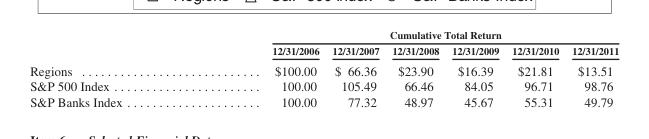table: (29, 28, 618, 108)
table column: (29, 28, 196, 108), (196, 28, 325, 108), (384, 28, 444, 108), (444, 28, 504, 108), (504, 28, 564, 108), (325, 28, 384, 108), (564, 28, 618, 108)
table column header: (29, 28, 618, 59)
table row: (29, 59, 618, 77), (29, 42, 618, 59), (29, 77, 618, 93), (29, 93, 618, 108), (29, 28, 618, 42)
table spanning cell: (196, 28, 618, 42)
